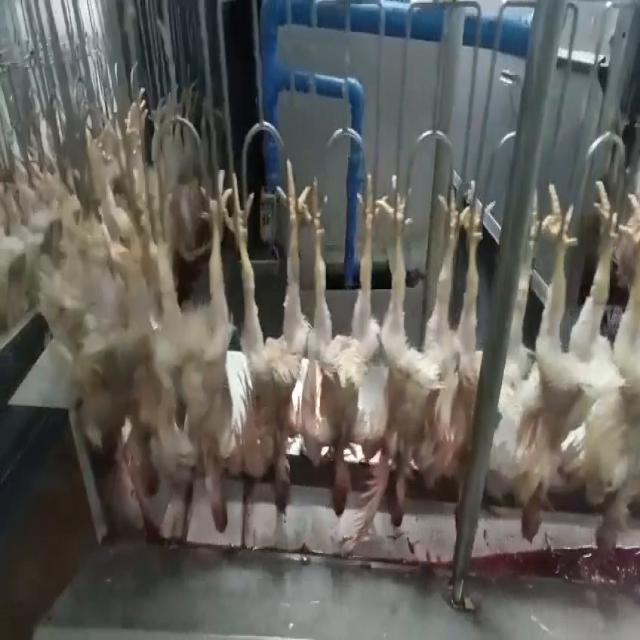chicken: (508, 170, 626, 550), (226, 163, 318, 512), (371, 175, 462, 527), (153, 158, 228, 534), (306, 184, 385, 524), (438, 178, 498, 494), (596, 177, 640, 556), (97, 186, 157, 448)
